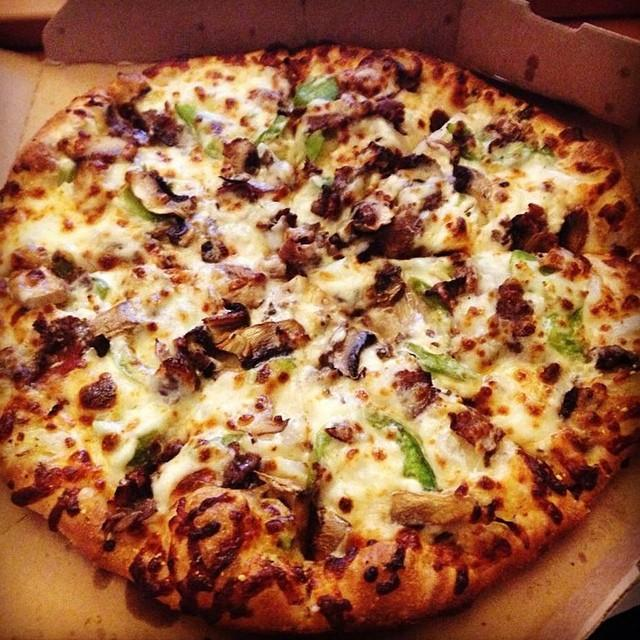mushrooms: (202, 303, 306, 360), (129, 163, 202, 224), (280, 229, 340, 275), (454, 160, 504, 213), (88, 302, 142, 348), (216, 136, 270, 180), (328, 320, 370, 371), (347, 198, 394, 233), (359, 268, 400, 302)
peppers: (363, 404, 442, 485), (280, 73, 340, 119), (404, 271, 456, 316), (408, 340, 460, 374)
pizza: (0, 42, 640, 638)
